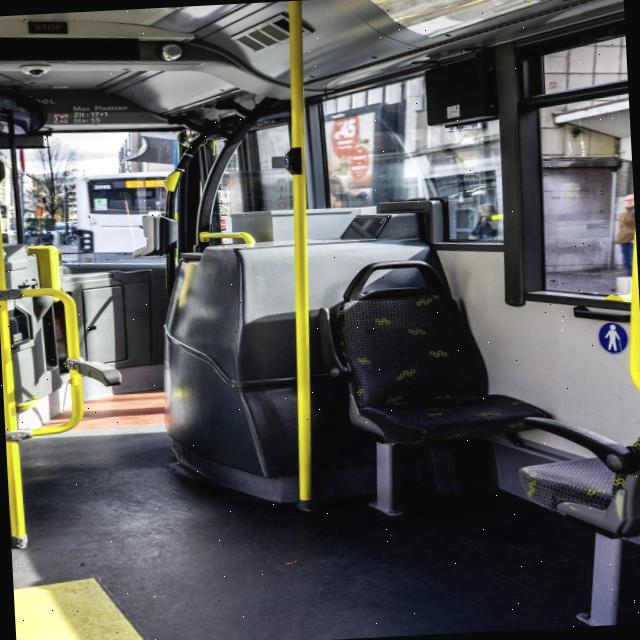empty-seat-frontal: (322, 252, 564, 450)
